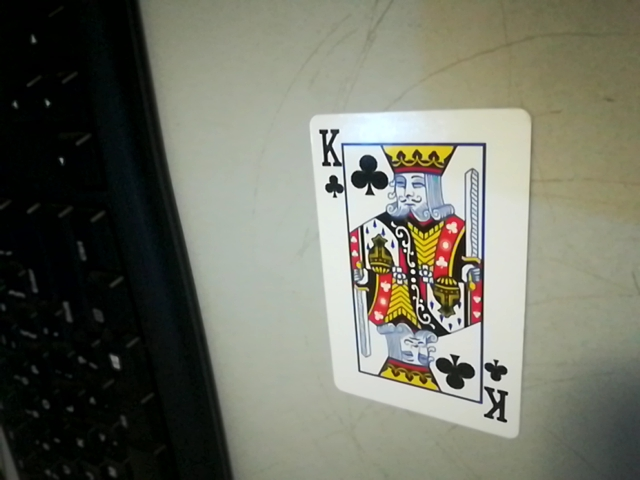mh k: (479, 358, 522, 430), (308, 121, 348, 198)
